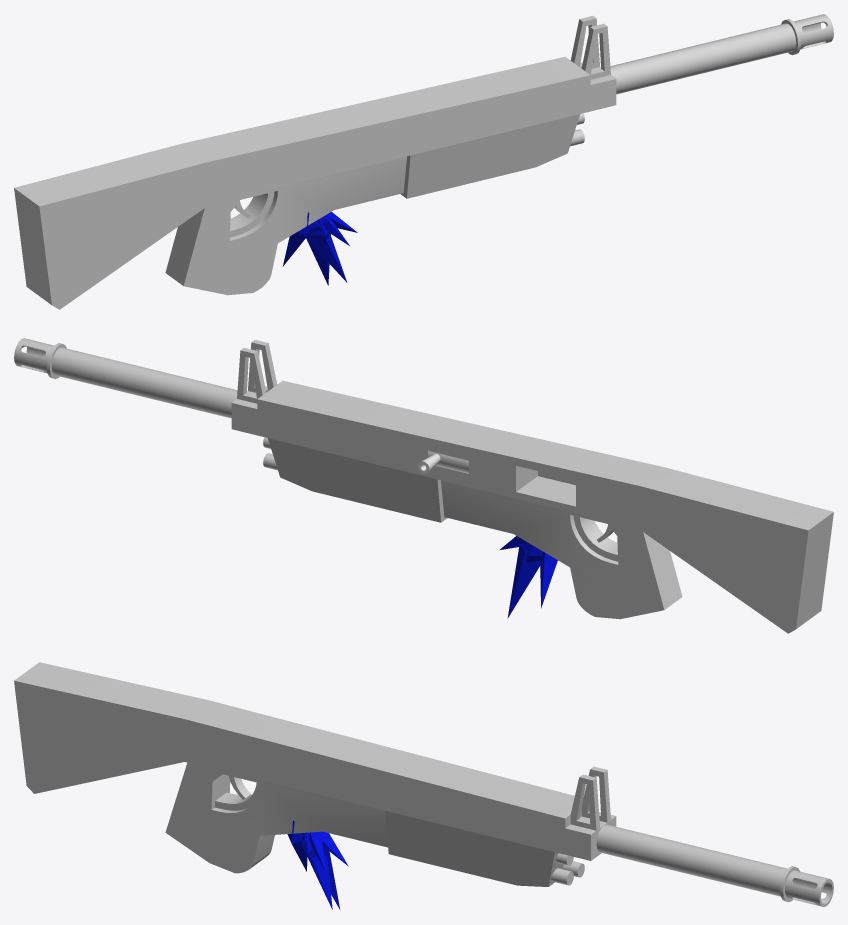
Rendered from rifle.fbx.
The picture shows the model from 3 angles, top to bottom: view 1: azimuth 30°, elevation 25°; view 2: azimuth 150°, elevation 25°; view 3: azimuth 330°, elevation 25°; orthographic projection.
Visible parts, largest first — view 1: Body, Crystal; view 2: Body, Crystal, Cylinder; view 3: Body, Crystal.
Part boxes in pixels (x1,y1,x2,y2): Body: (14, 14, 833, 309); Crystal: (282, 212, 357, 285); Body: (14, 338, 833, 633); Crystal: (499, 536, 557, 618); Cylinder: (417, 451, 468, 474); Body: (14, 662, 833, 906); Crystal: (287, 820, 348, 909).
Bounding box in the file's own units: 2.06 × 6.23 × 25.44.
